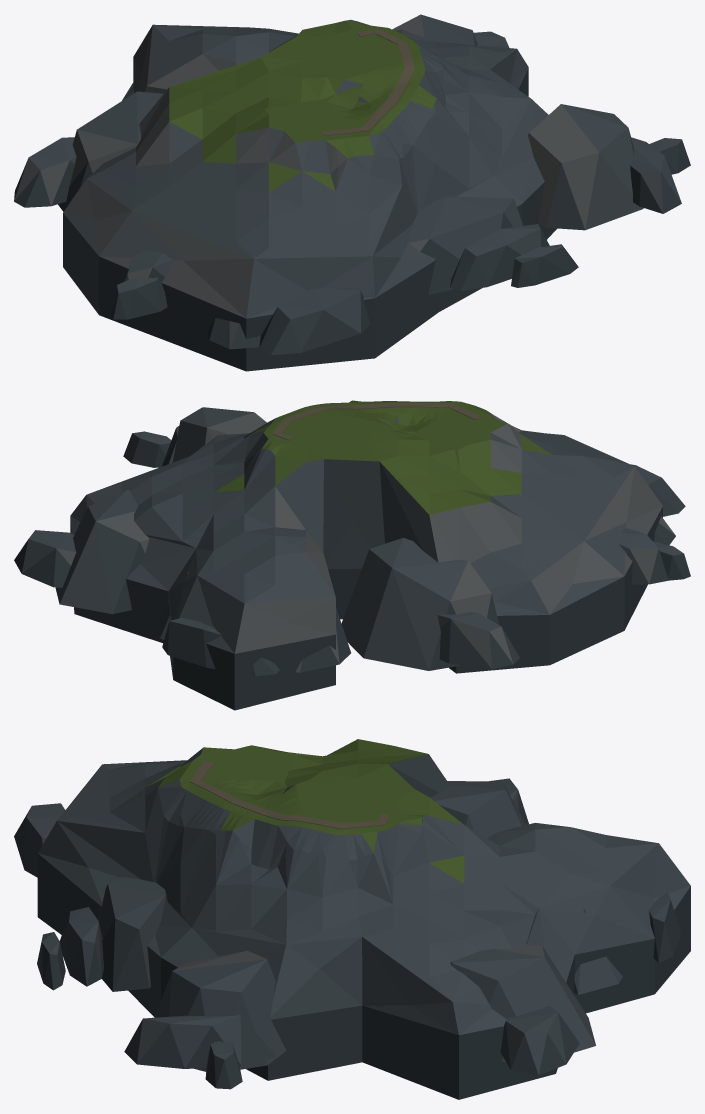
Rendered from island_c.glb.
3 renders of one model, top to bottom at view 1: azimuth 30°, elevation 25°; view 2: azimuth 150°, elevation 25°; view 3: azimuth 270°, elevation 25°, orthographic. The views are drawn at different scales.
Visible parts, largest first — view 1: island_c_Coast short olive grass, island_c_Coast blue grey bedrock, island_c_Coast weathered stone footpath; view 2: island_c_Coast short olive grass, island_c_Coast blue grey bedrock, island_c_Coast weathered stone footpath; view 3: island_c_Coast short olive grass, island_c_Coast blue grey bedrock, island_c_Coast weathered stone footpath.
Part boxes in pixels (x1,y1,x2,y2): island_c_Coast short olive grass: (63, 19, 556, 371); island_c_Coast blue grey bedrock: (14, 14, 690, 355); island_c_Coast weathered stone footpath: (320, 29, 414, 135); island_c_Coast short olive grass: (70, 400, 662, 710); island_c_Coast blue grey bedrock: (14, 407, 690, 675); island_c_Coast weathered stone footpath: (272, 402, 481, 440); island_c_Coast short olive grass: (37, 739, 690, 1099); island_c_Coast blue grey bedrock: (14, 778, 681, 1089); island_c_Coast weathered stone footpath: (190, 761, 390, 828).
Size of the model in its own units: 64.61 by 17.59 by 60.
